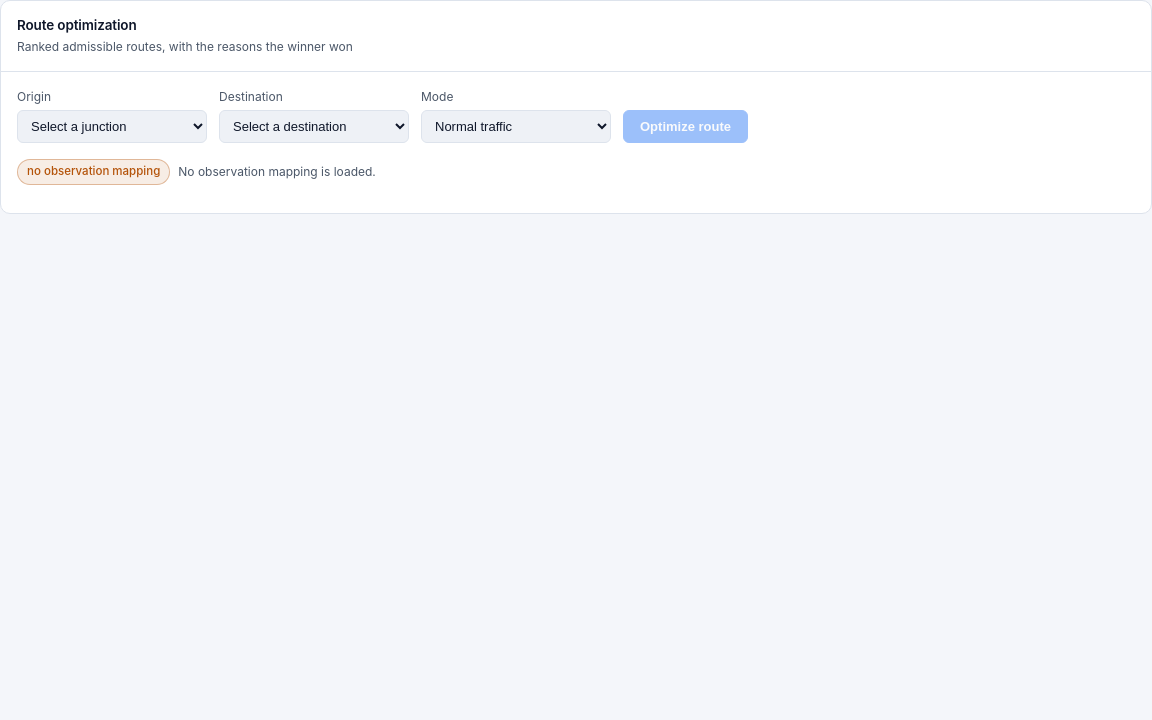
Test case: RouteOptimizationPanel › renders an unavailable travel time as unavailable, not as zero
Select "J1" in the dropdown labelled "Origin" at (112, 127), box x1=17 y1=110 x2=207 y2=143
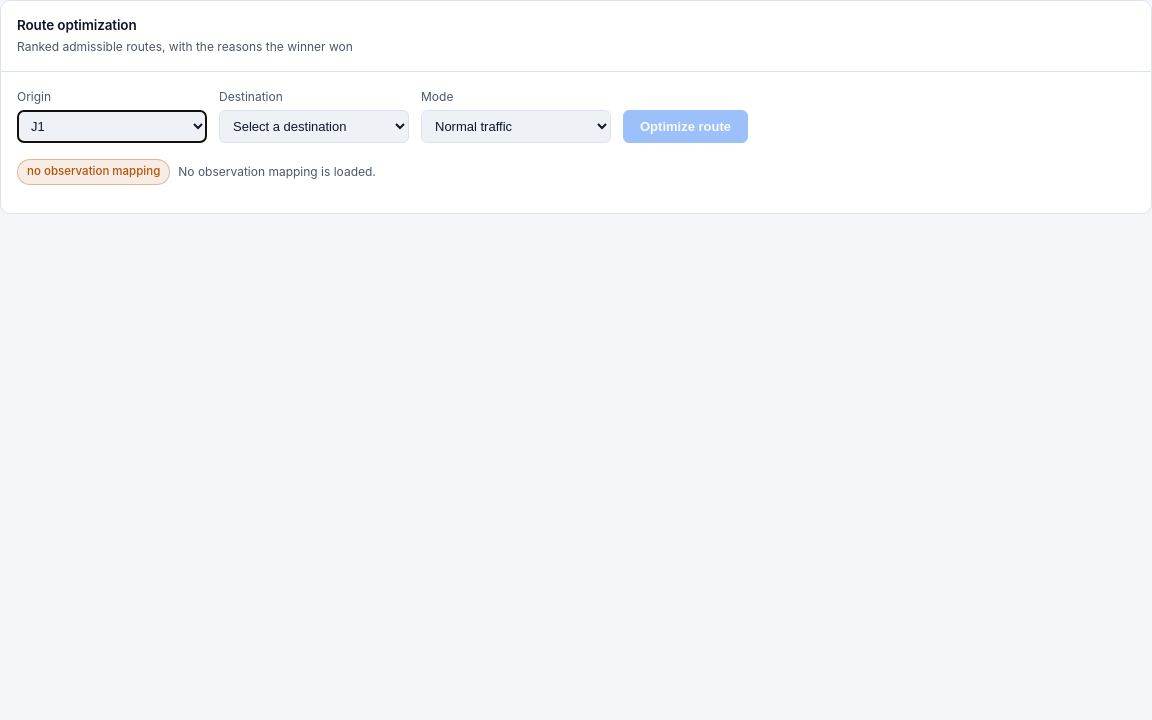
Select "J3" in the dropdown labelled "Destination" at (314, 127), box x1=219 y1=110 x2=409 y2=143
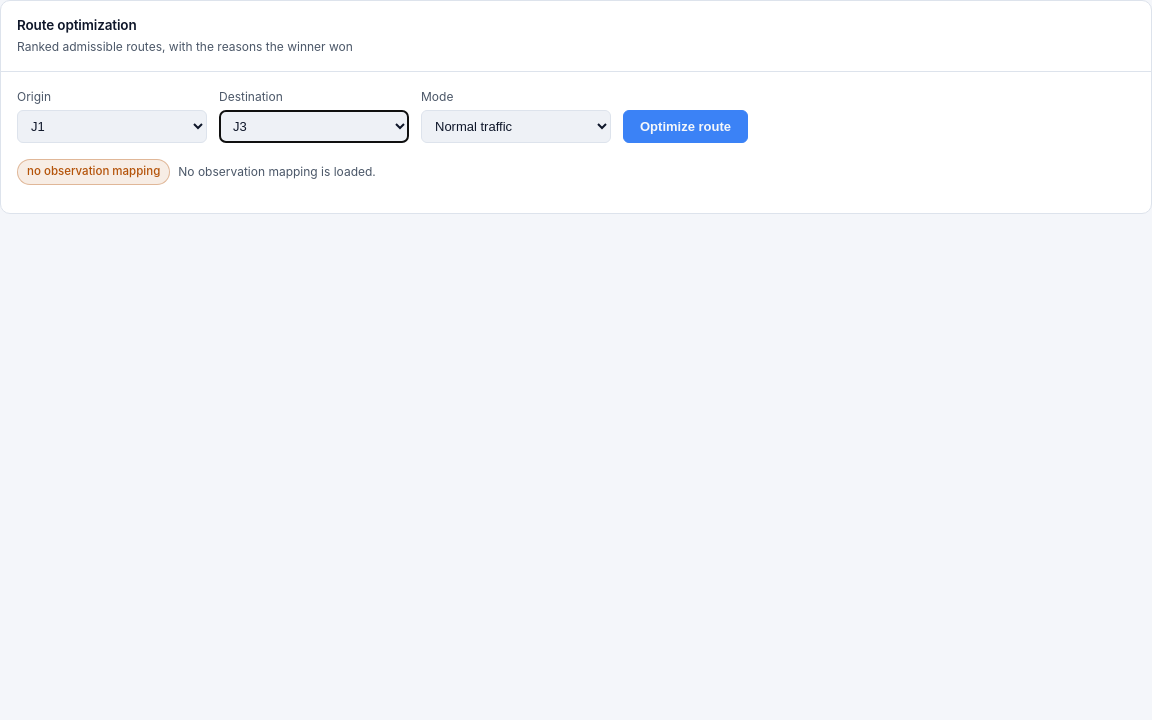
Click the button "Optimize route" at (686, 127), box x1=623 y1=110 x2=748 y2=143
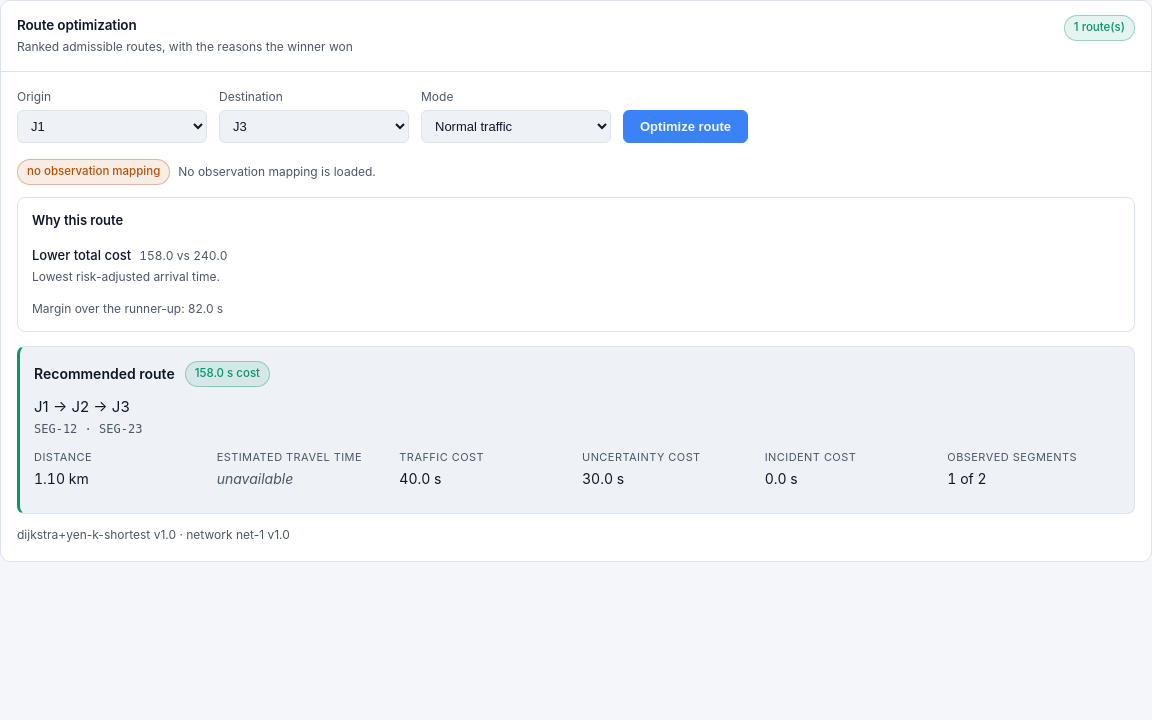
Check: the text "unavailable" is shown, box x1=217 y1=470 x2=293 y2=487
